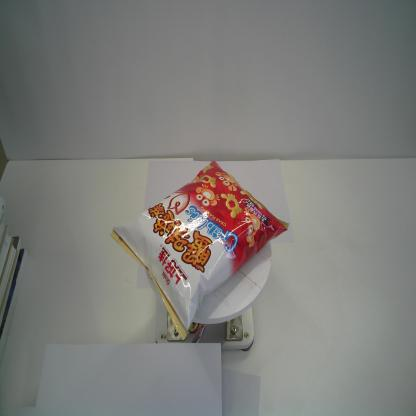Puffed Food: (106, 159, 290, 343)
